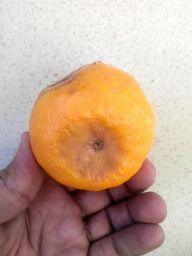Unripe: (29, 62, 155, 187)
